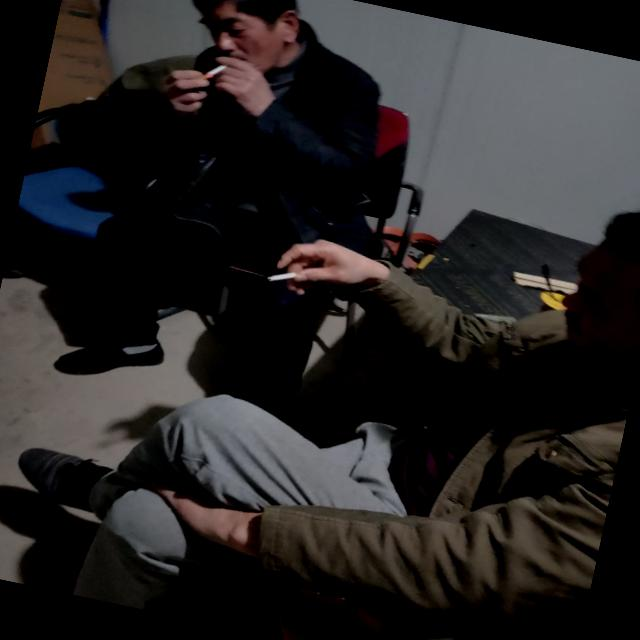smoke: (188, 46, 248, 100)
